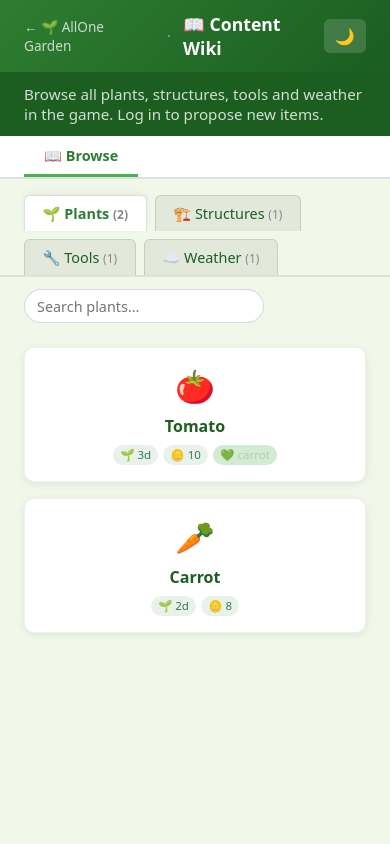
ContentWikiPage — tab switching › switches to Tools tab
The width and height of the screenshot is (390, 844).
Expected: the text "Tomato" is shown, [165, 415, 225, 437]
Click the button "🔧 Tools (1)" at (80, 257), box [24, 239, 136, 275]
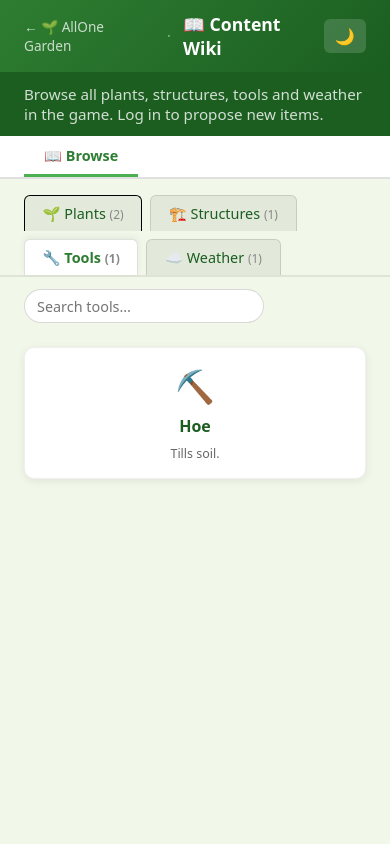
Result: the text "Hoe" is shown at [179, 415, 211, 437]
